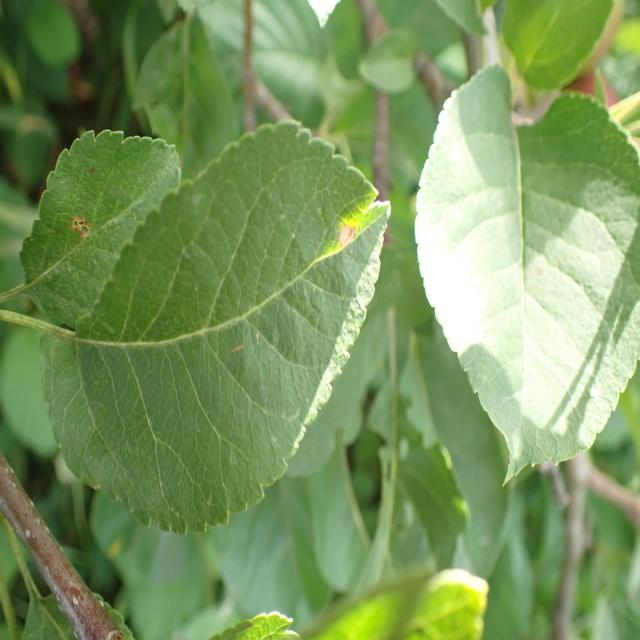Black Rot: (321, 214, 368, 264), (65, 207, 99, 254)
